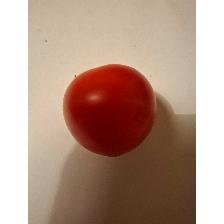Tomate: (60, 58, 162, 158)
